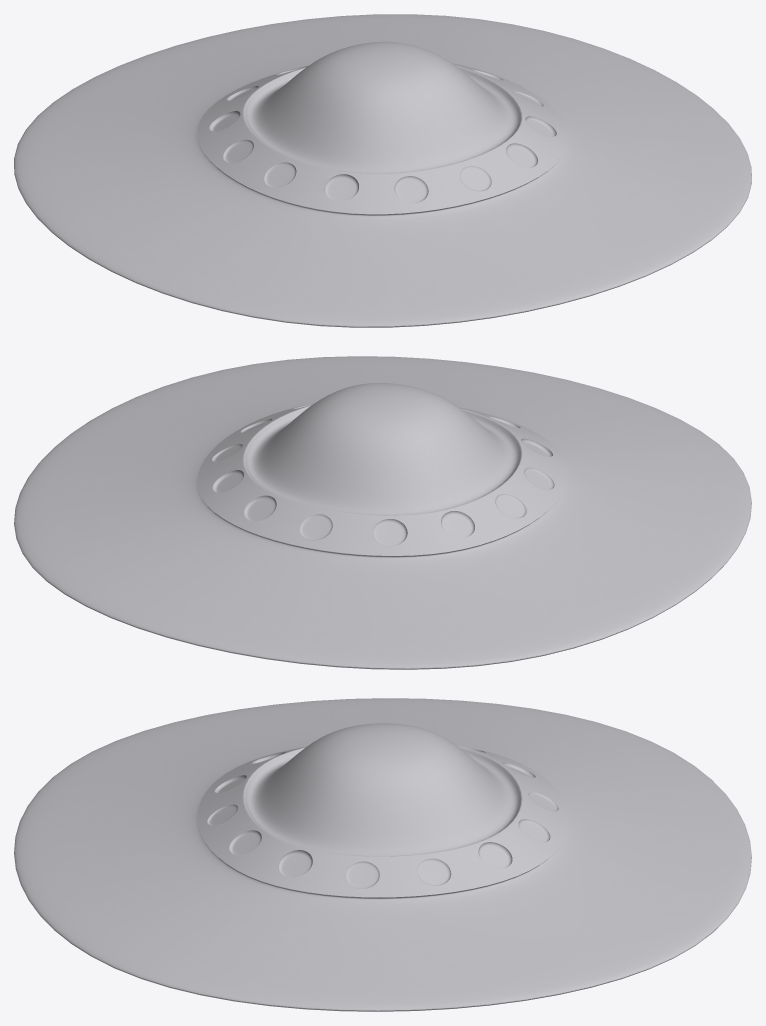
File: ufo.fbx
3 views of the same model, one above another, from view 1: azimuth 30°, elevation 25°; view 2: azimuth 150°, elevation 25°; view 3: azimuth 270°, elevation 25° (orthographic). The views are drawn at different scales.
Parts seen in each view (by area): view 1: Cylinder; view 2: Cylinder; view 3: Cylinder.
Part boxes in pixels (x1=…): Cylinder: x1=14, y1=14, x2=751, y2=327; Cylinder: x1=14, y1=356, x2=751, y2=669; Cylinder: x1=14, y1=698, x2=751, y2=1011.
Size of the model in its own units: 2991 by 779 by 2991.
